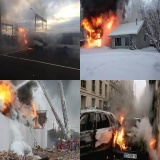fire: (81, 13, 115, 47), (0, 80, 15, 117), (112, 115, 128, 149), (20, 104, 38, 128), (17, 27, 34, 51), (148, 136, 157, 147)
